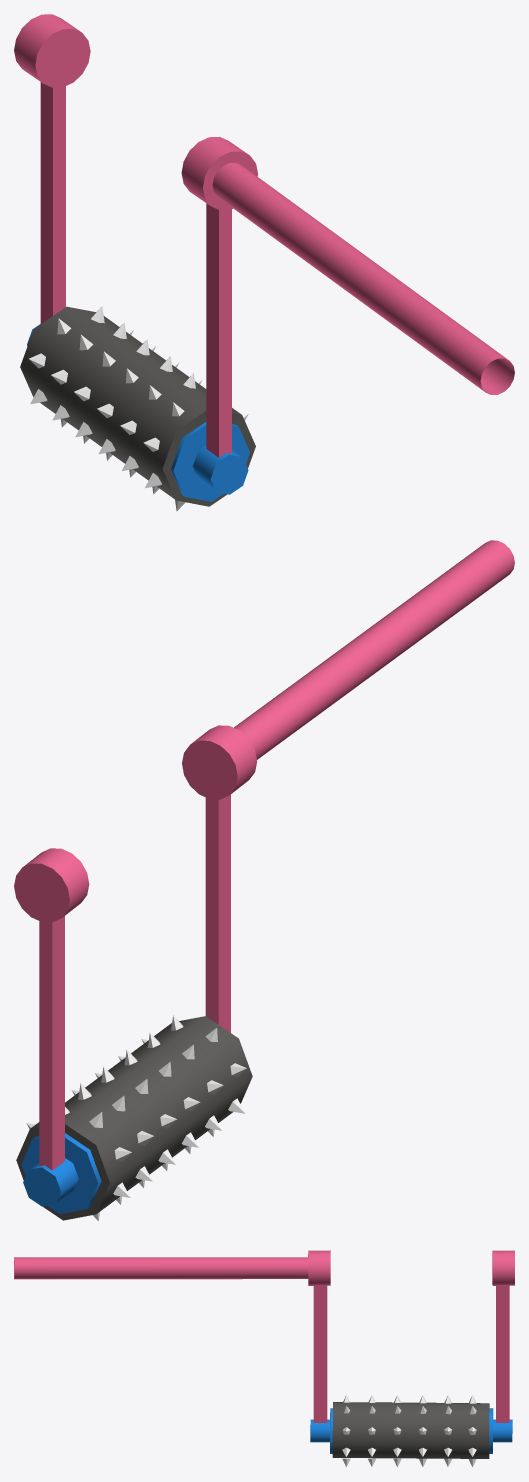
Rendered from Trap_019_New.fbx.
3 views of the same model, one above another, from view 1: azimuth 30°, elevation 25°; view 2: azimuth 150°, elevation 25°; view 3: azimuth 270°, elevation 25° (orthographic). The views are drawn at different scales.
Parts seen in each view (by area): view 1: rotate, base_01; view 2: rotate, base_01; view 3: rotate, base_01.
Part boxes in pixels (bbox=[...]): rotate: bbox=[14, 14, 257, 511]; base_01: bbox=[212, 162, 514, 394]; rotate: bbox=[14, 725, 257, 1220]; base_01: bbox=[234, 540, 514, 759]; rotate: bbox=[308, 1250, 514, 1466]; base_01: bbox=[14, 1257, 308, 1279].
Size of the model in its own units: 343 by 1166 by 2529.
